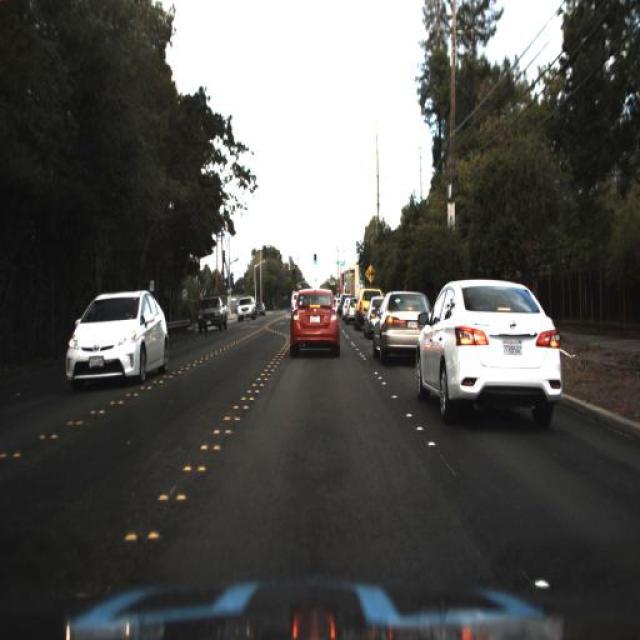car: (410, 276, 564, 424), (50, 267, 176, 405), (371, 288, 430, 363), (288, 287, 339, 358), (192, 291, 228, 338), (234, 291, 258, 324)
